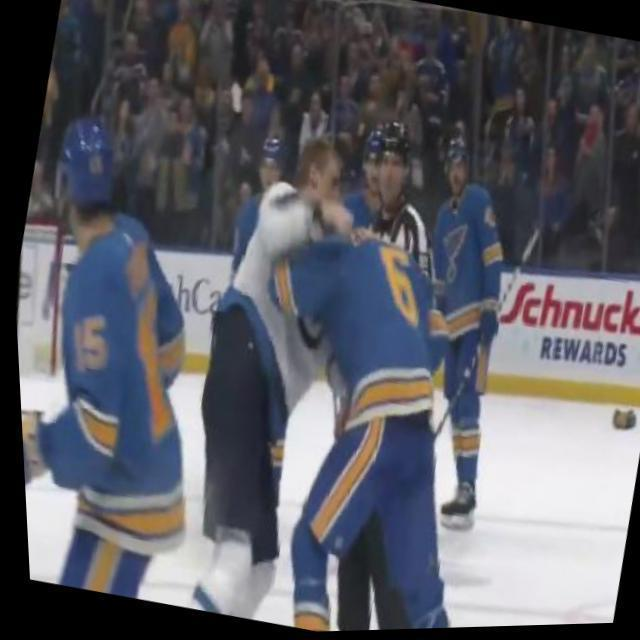non-fight: (140, 104, 510, 576)
